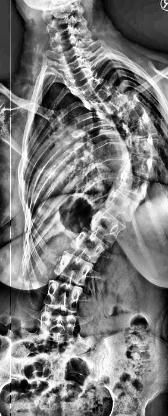Vertebrae: (57, 252, 94, 286), (37, 312, 77, 342), (72, 230, 108, 262), (46, 284, 82, 312), (91, 211, 123, 242), (103, 195, 138, 221), (119, 172, 150, 200), (126, 154, 156, 182), (104, 94, 138, 116), (92, 83, 116, 113), (125, 119, 155, 141), (79, 76, 105, 100), (120, 102, 148, 124), (132, 138, 159, 160), (67, 70, 91, 88), (63, 58, 87, 76)
